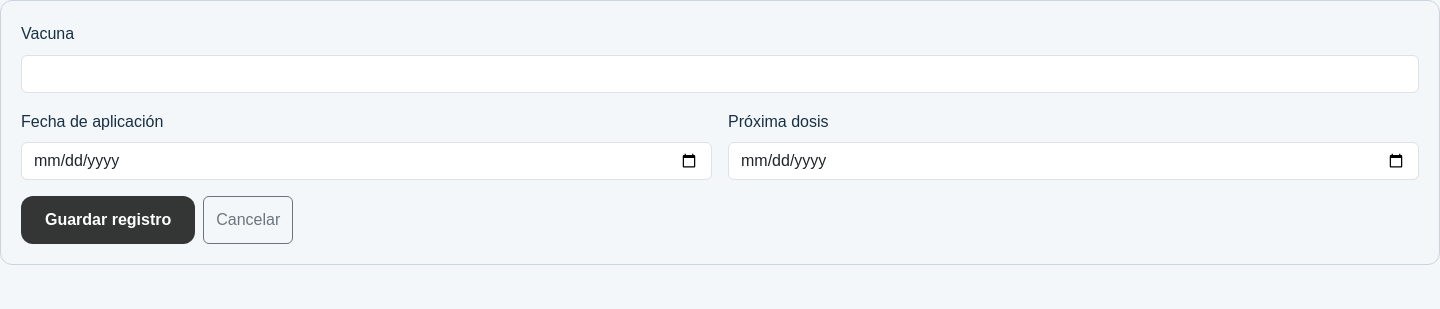
Scenario: FormularioRegistroClinico (vacunas y desparasitaciones) › rechaza una fecha de aplicación futura
This screenshot has width=1440, height=309.
Type "Antirrábica" into the field labelled "Vacuna". click: (720, 74)
box: [21,55,1419,93]
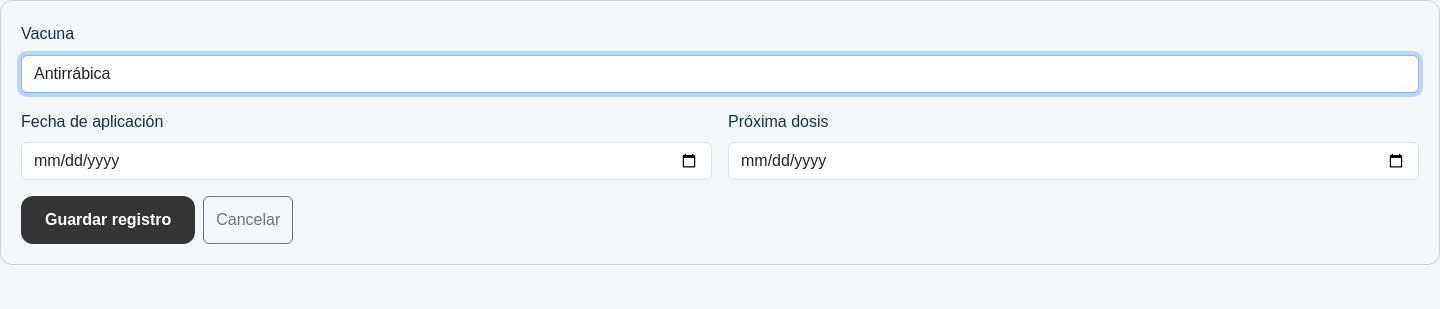
Type "2099-01-01" into the date field labelled "Fecha de aplicación". click: (366, 161)
box: [21,142,712,180]
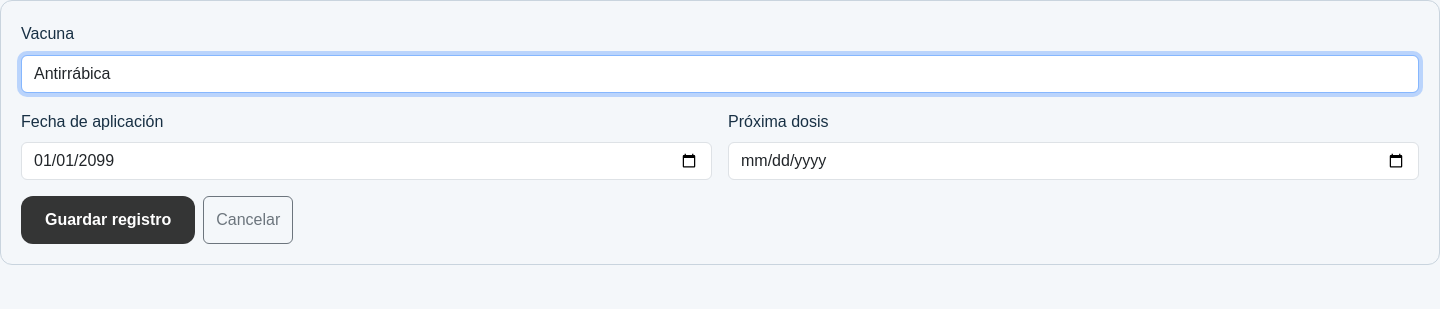
Type "2100-01-01" into the date field labelled "Próxima dosis". click: (1074, 161)
box: [728,142,1419,180]
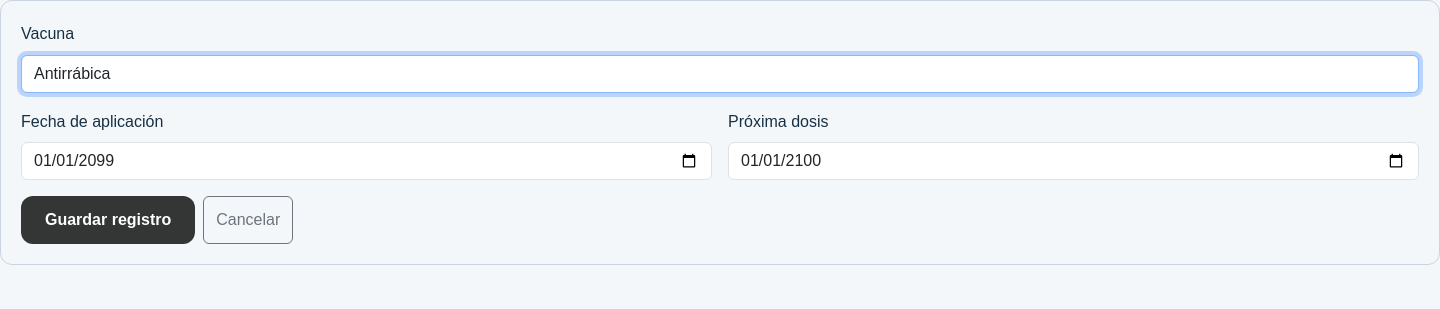
Click the button "Guardar registro". click: (108, 220)
box: [21,196,195,244]
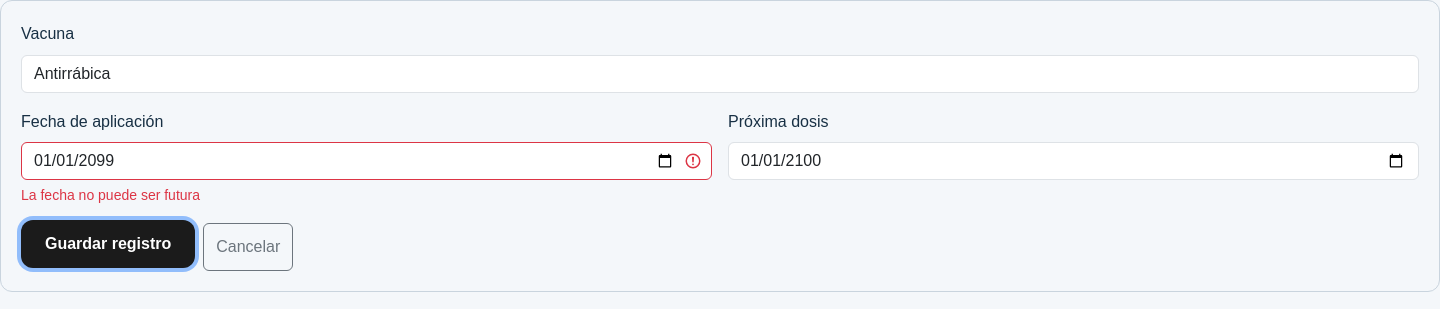
Expected: the text "La fecha no puede ser futura" is shown, [21,187,200,203]
